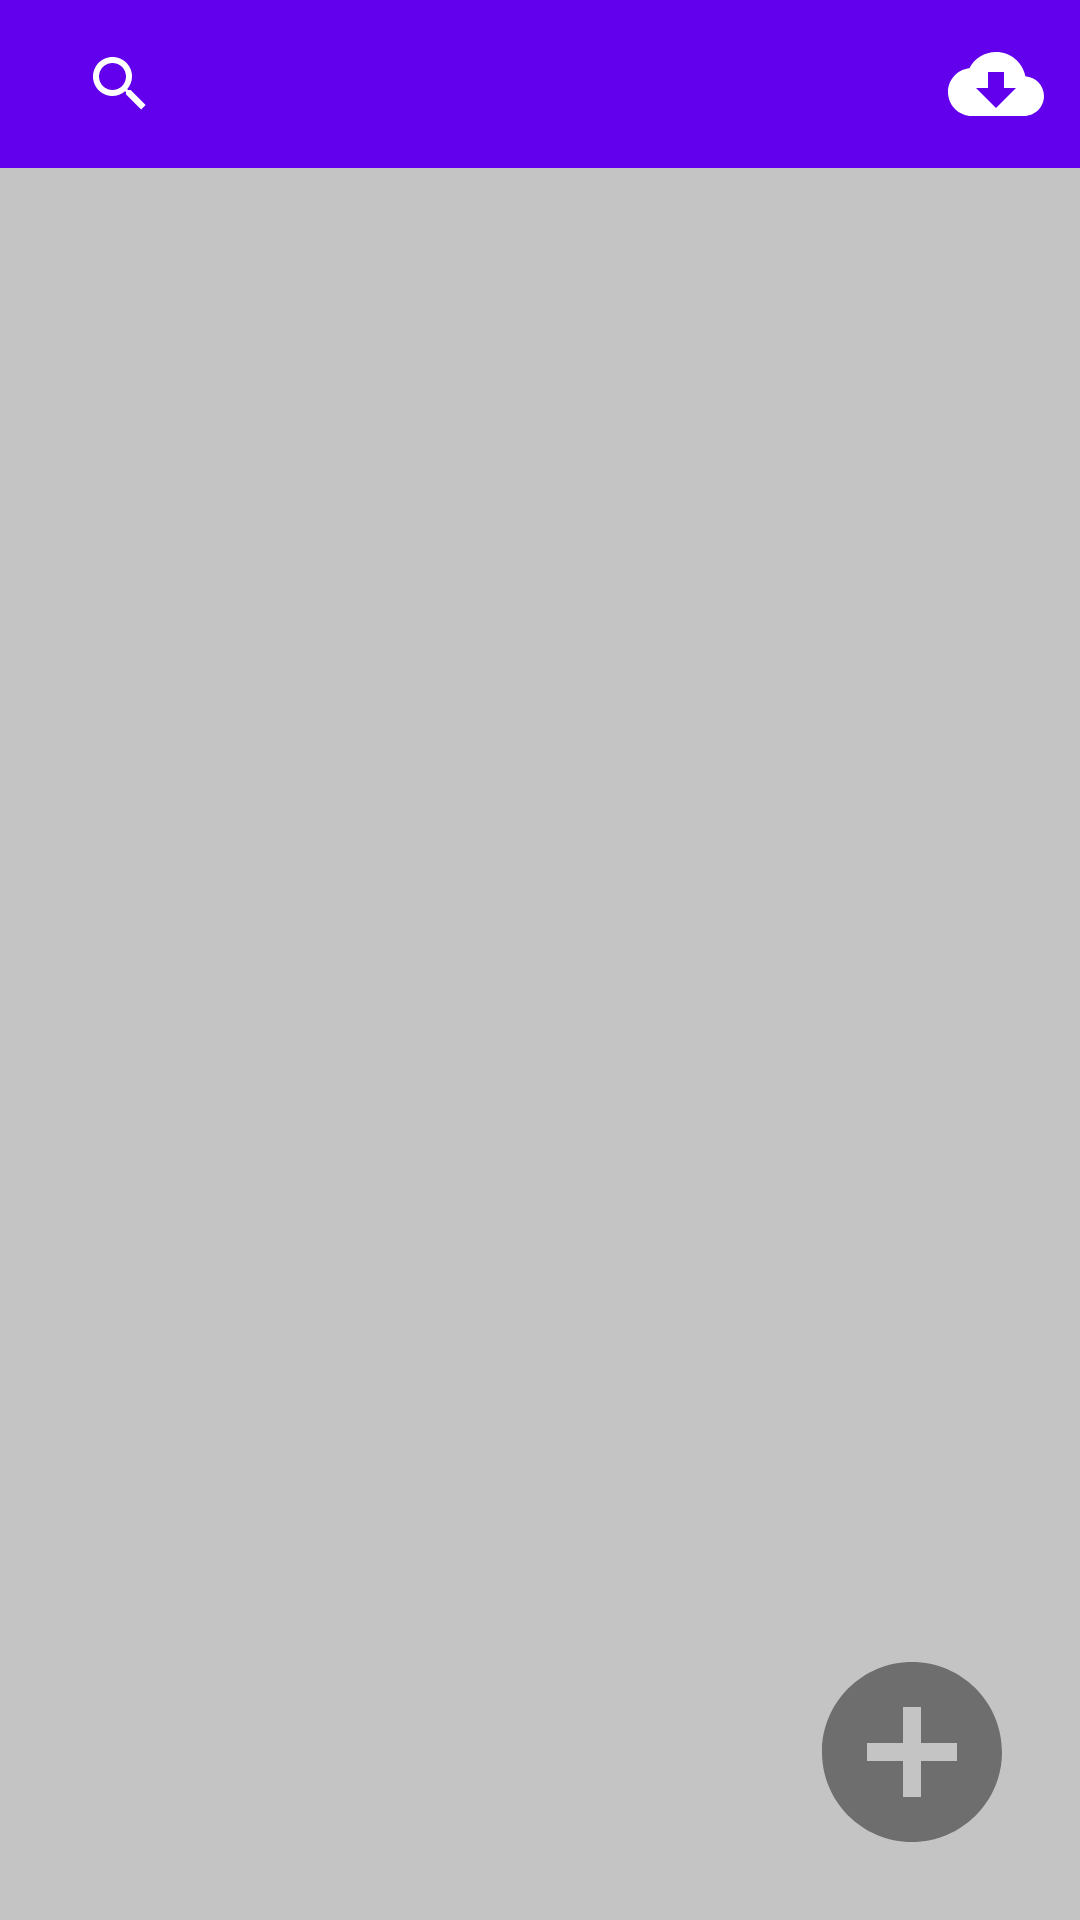

Point at icon controls on the screen. Image size 1080*1920, points as (x,y).
add: (912,1752)
